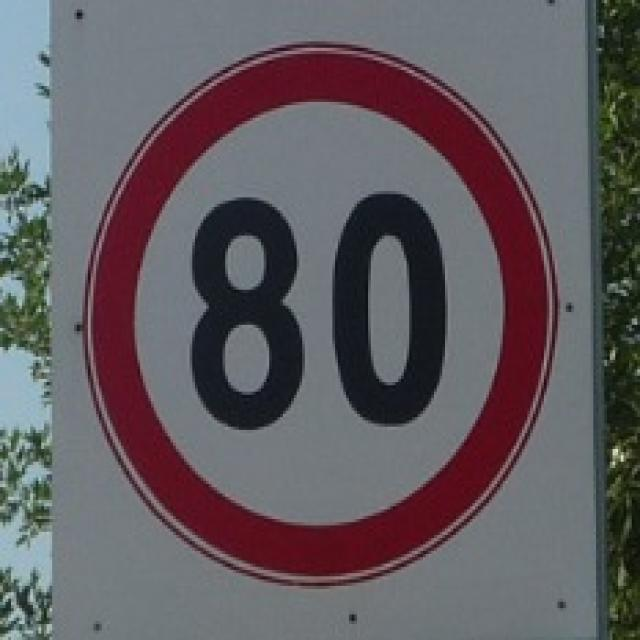Speed Limit -80-: (178, 179, 457, 443)
